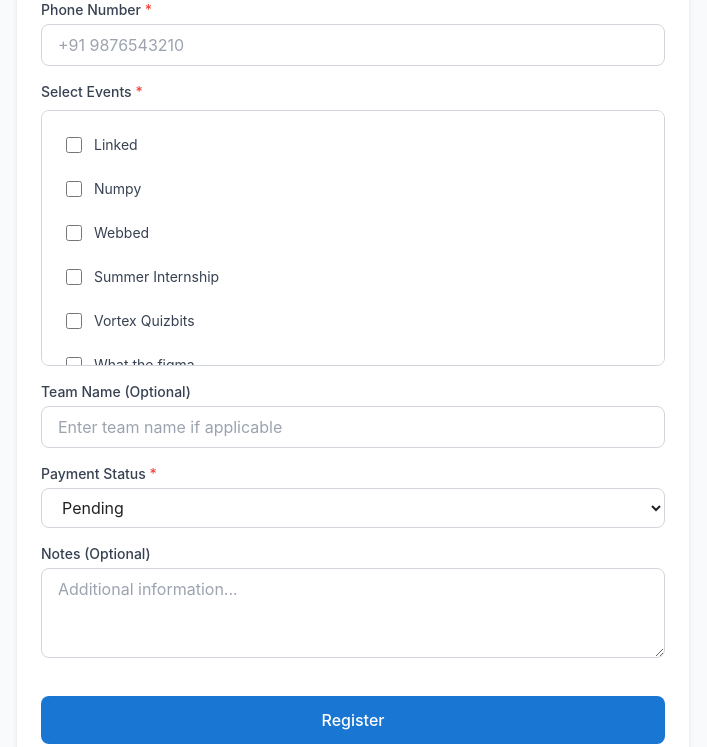
EventRegistrationForm › validates required fields on submit
(page scrolled)
Click the button "Register" at (353, 720), box [41,696,665,744]
(page scrolled)
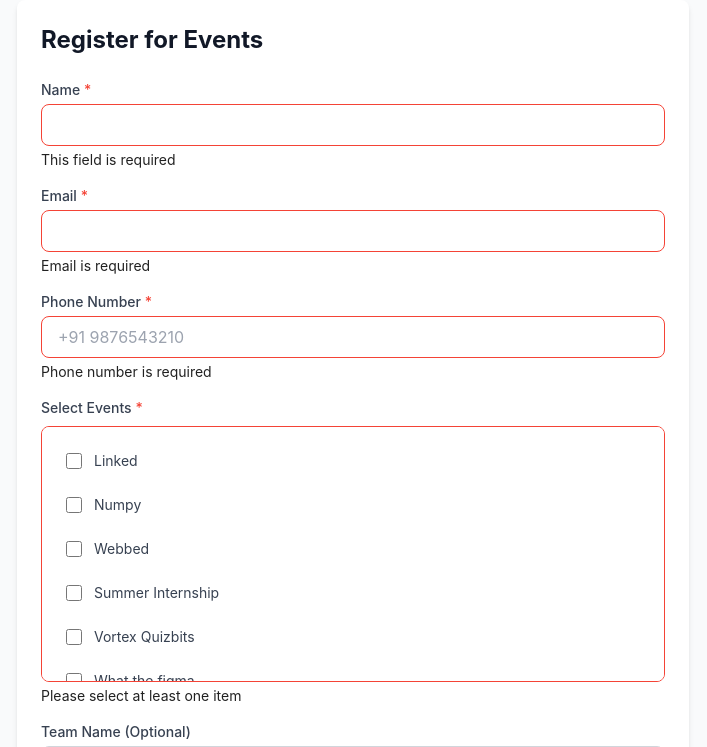
Now the text "This field is required" is shown, box [41,151,176,168]
